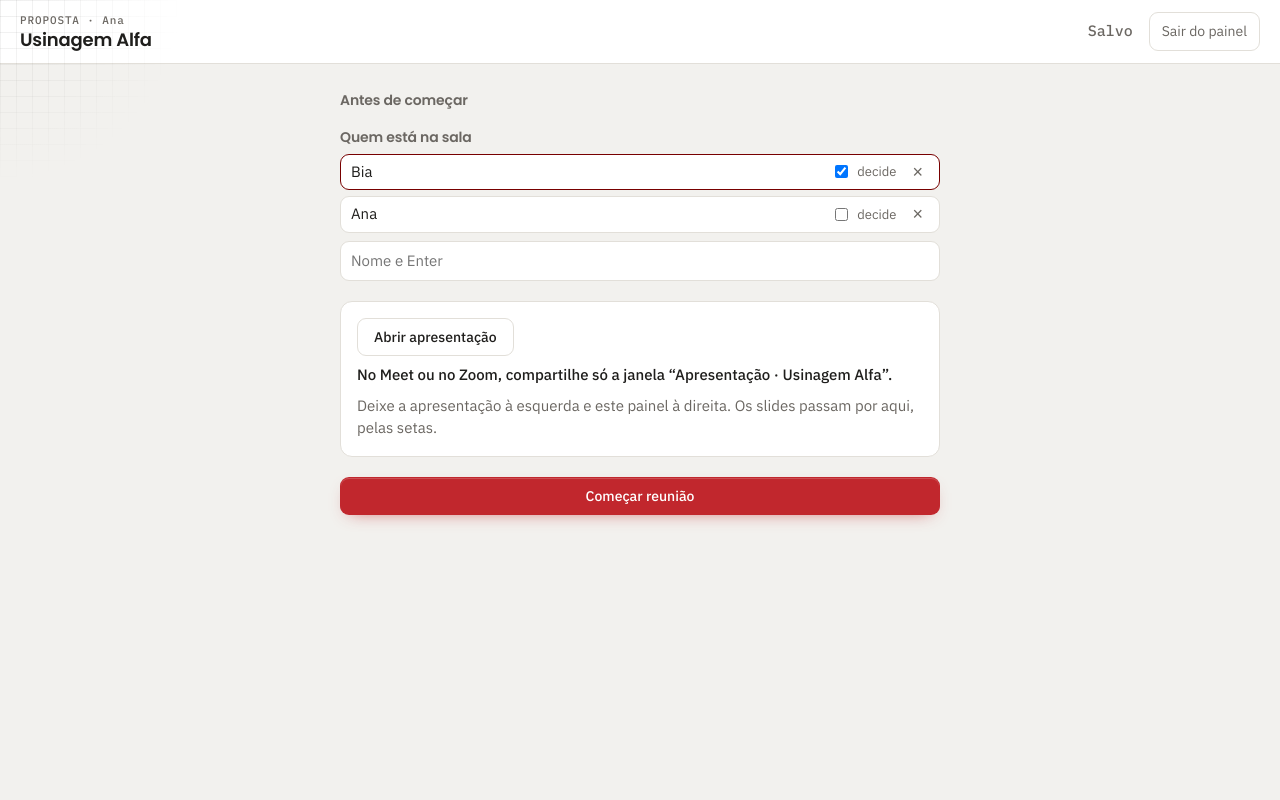
seta passa o slide e o canal manda o slide novo
This screenshot has width=1280, height=800.
Click the button "Começar reunião".
click(640, 496)  # box [340,477,940,515]
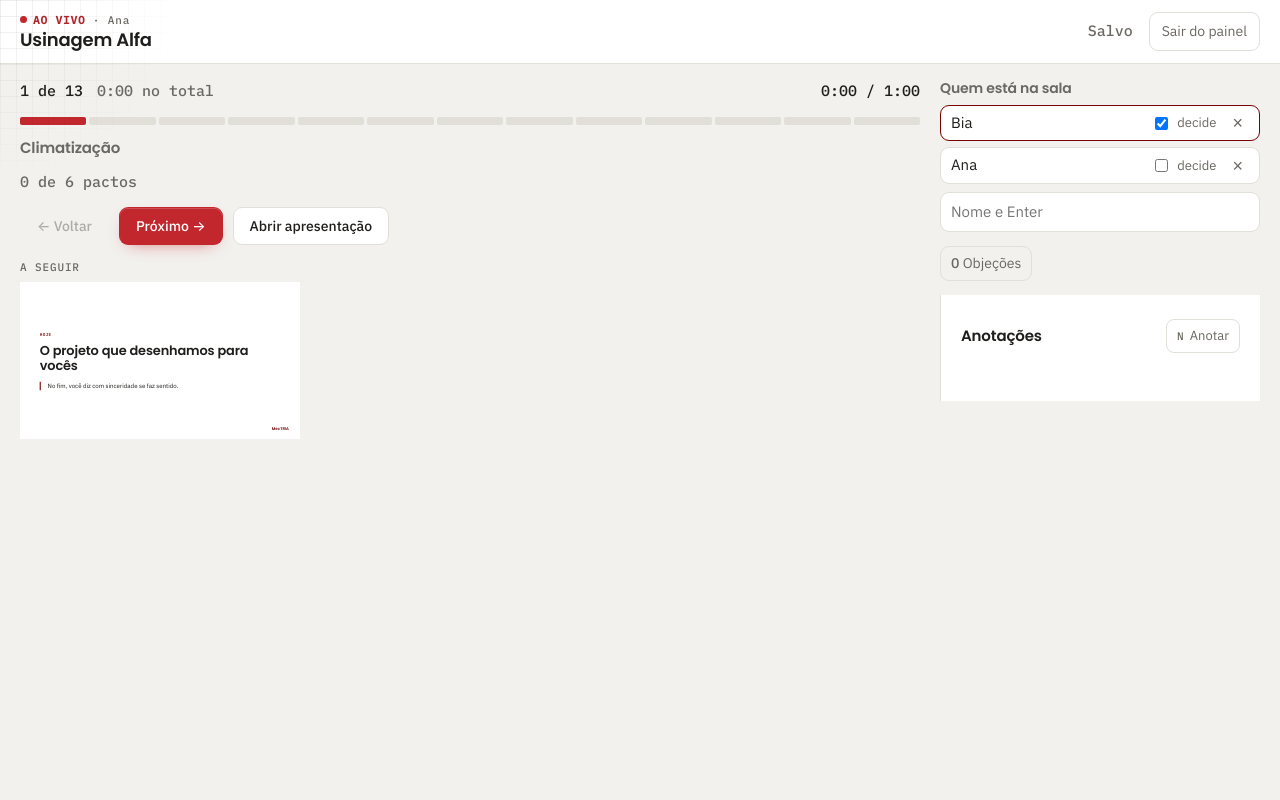
Now the text "1 de 13" is shown, box [20,80,83,102]
Press Arrowright
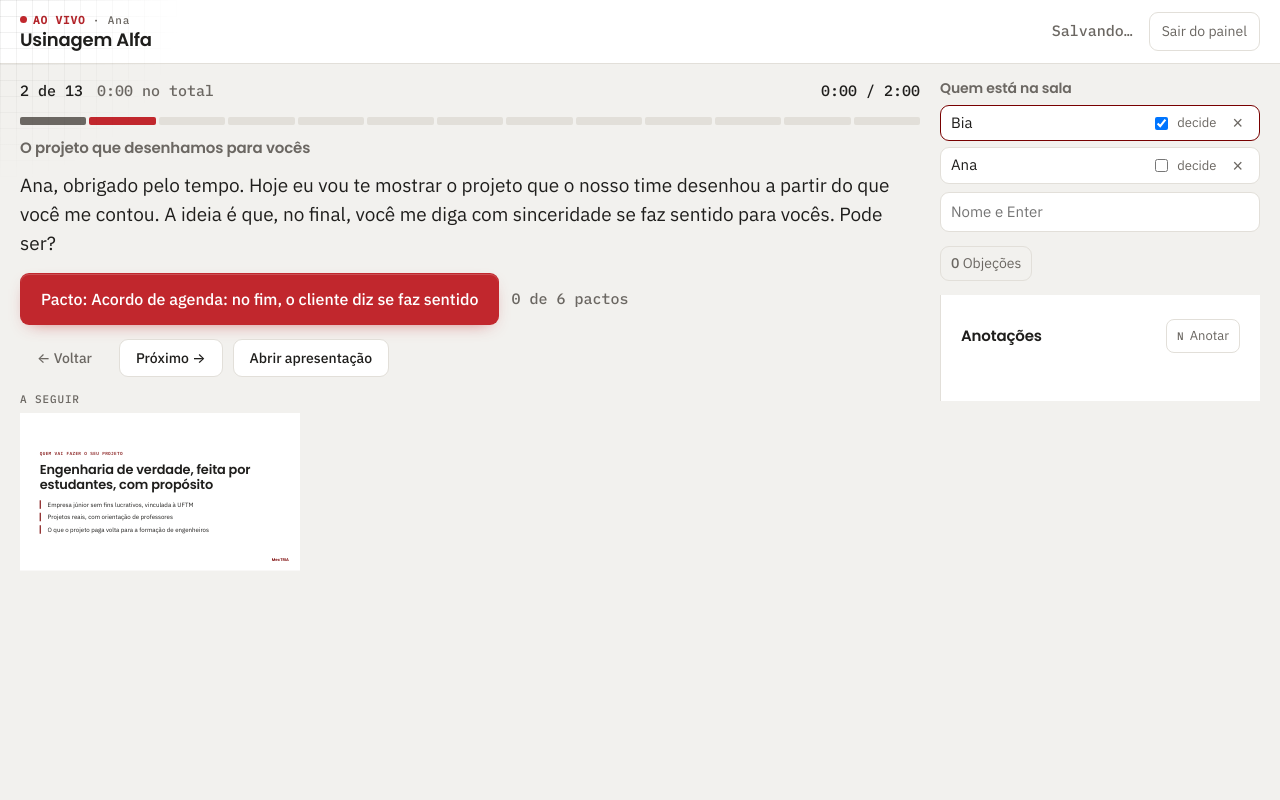
Now the text "2 de 13" is shown, box [20,80,83,102]
